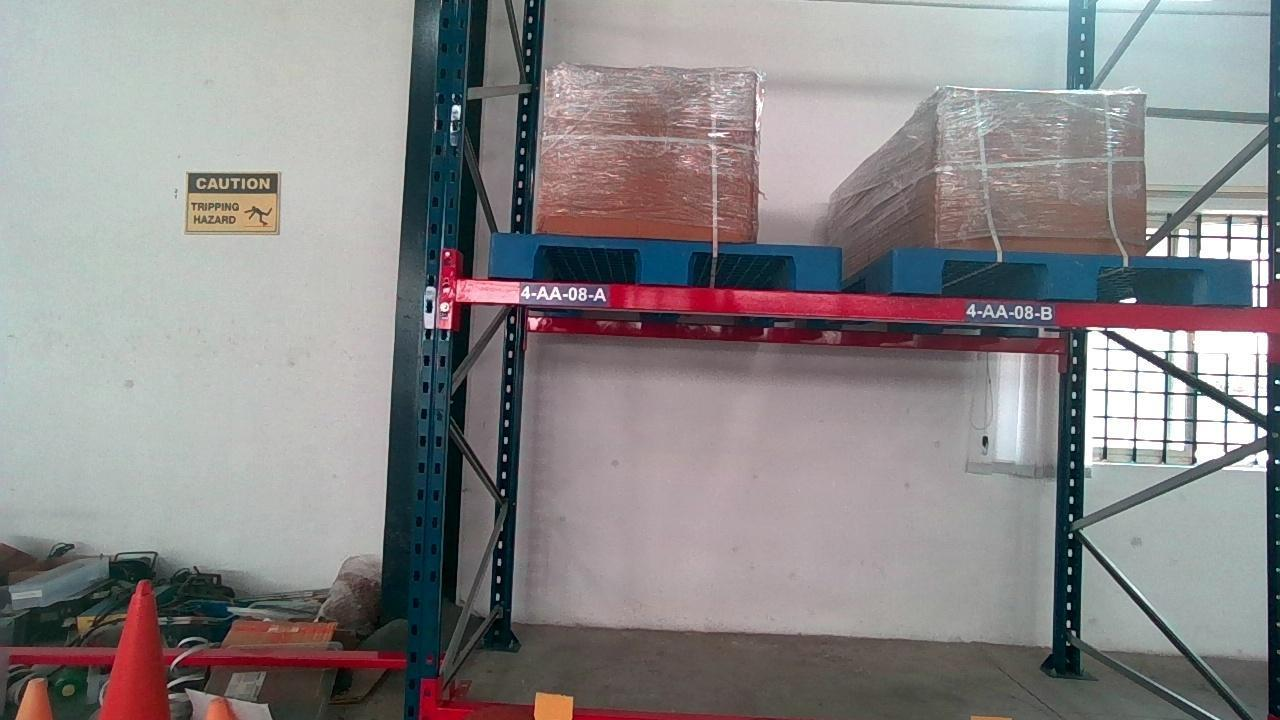h_rack: (472, 287, 1261, 326)
orange_strip: (531, 691, 573, 720)
small_pallet: (895, 251, 1248, 300), (490, 237, 838, 283)
